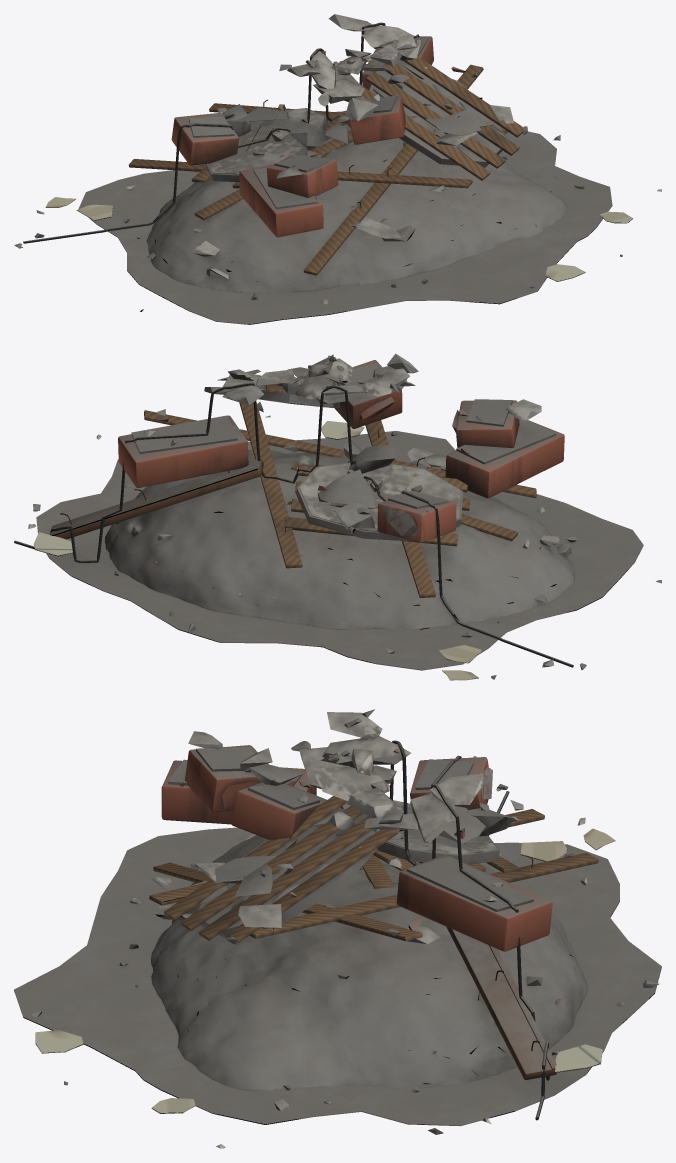
File: SM_Debris_Pile.fbx
The picture shows the model from 3 angles, top to bottom: view 1: azimuth 30°, elevation 25°; view 2: azimuth 150°, elevation 25°; view 3: azimuth 270°, elevation 25°; orthographic projection. The views are drawn at different scales.
Visible parts, largest first — view 1: SM_Debris_Pile; view 2: SM_Debris_Pile; view 3: SM_Debris_Pile.
Part boxes in pixels (box(x1,y1,x2,y2)): SM_Debris_Pile: box(14, 14, 661, 324); SM_Debris_Pile: box(14, 353, 661, 680); SM_Debris_Pile: box(14, 709, 661, 1148).
Size of the model in its own units: 1.46 by 0.4344 by 1.11.
1 material, 1 textured.
